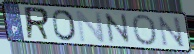N: (75, 9, 107, 43), (156, 15, 187, 49), (103, 12, 134, 46)
O: (130, 13, 159, 47), (50, 8, 79, 42)
R: (23, 5, 53, 42)
